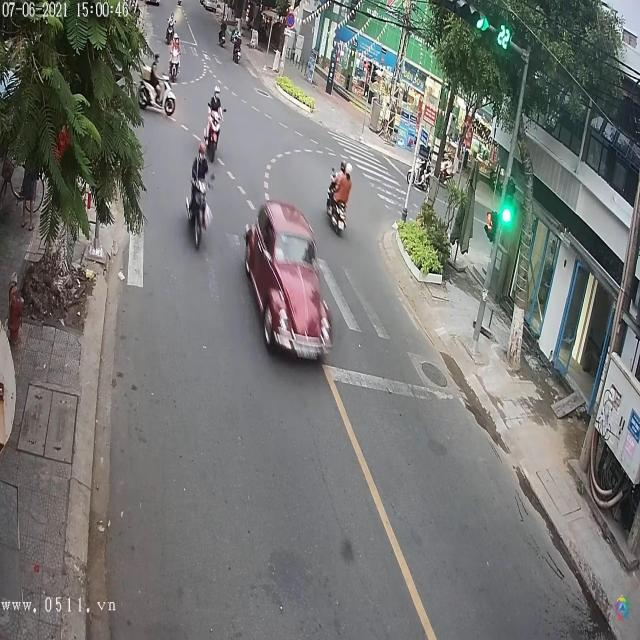car: (248, 201, 334, 363)
motorcycle: (185, 160, 217, 254), (138, 62, 178, 118), (326, 160, 351, 235), (205, 103, 226, 160), (167, 48, 182, 81), (233, 37, 242, 63)
